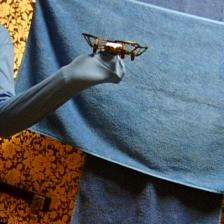drone: (82, 31, 150, 64)
